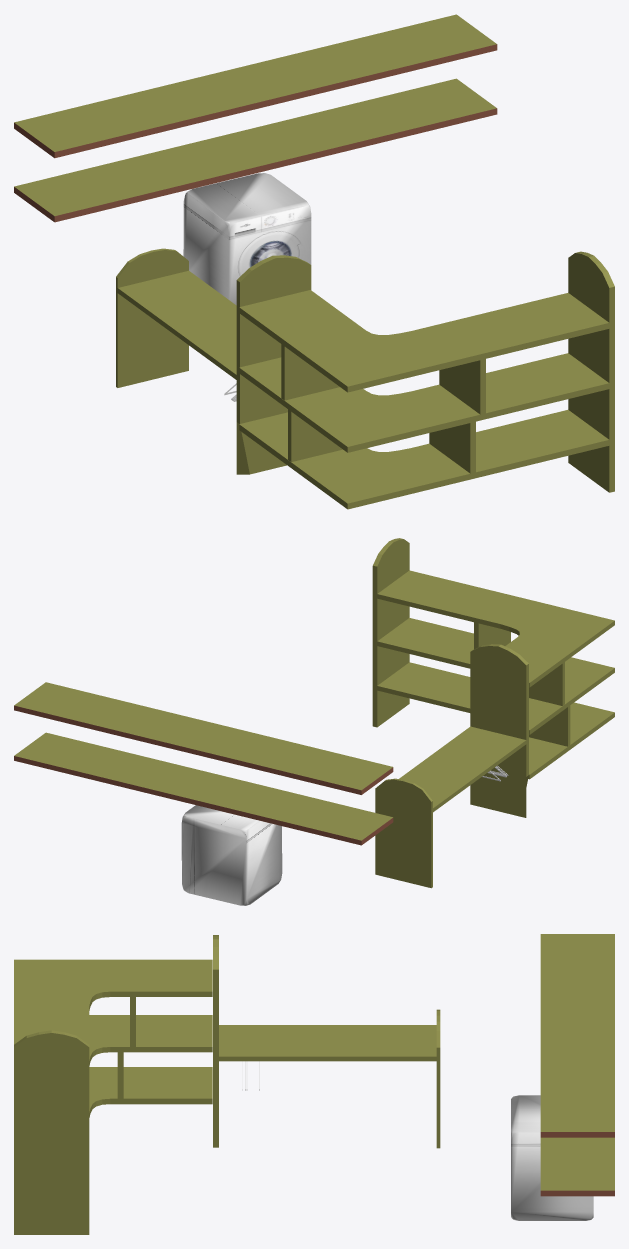
Rendered from mobilier_dressing.fbx.
3 views of the same model, one above another, from view 1: azimuth 30°, elevation 25°; view 2: azimuth 150°, elevation 25°; view 3: azimuth 270°, elevation 25° (orthographic). The views are drawn at different scales.
Parts seen in each view (by area): view 1: Cube.019, Cube.021, Cube.022, Cube.023; view 2: Cube.019, Cube.022, Cube.021, Cube.023; view 3: Cube.019, Cube.022, Cube.023, Cube.021.
Boxes of the visible parts, bbox=[...] form: Cube.019: bbox=[116, 248, 614, 509]; Cube.021: bbox=[14, 78, 497, 222]; Cube.022: bbox=[14, 14, 497, 158]; Cube.023: bbox=[183, 173, 311, 305]; Cube.019: bbox=[372, 538, 614, 888]; Cube.022: bbox=[14, 682, 393, 794]; Cube.021: bbox=[14, 732, 393, 845]; Cube.023: bbox=[181, 805, 282, 905]; Cube.019: bbox=[14, 935, 440, 1234]; Cube.022: bbox=[540, 934, 614, 1137]; Cube.023: bbox=[511, 1095, 593, 1220]; Cube.021: bbox=[540, 1137, 614, 1196].
Bounding box in the file's own units: 1475 × 705 × 1895.
